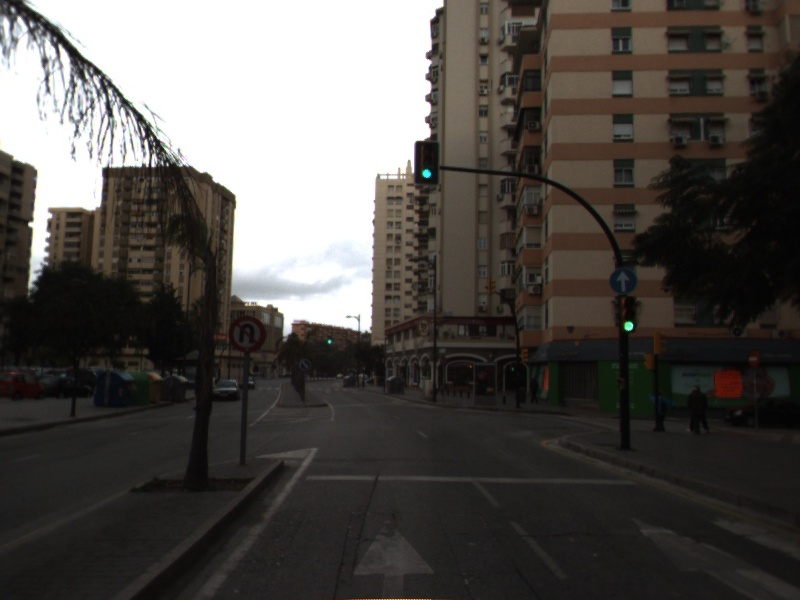STRAIGHT: (349, 516, 438, 600)
